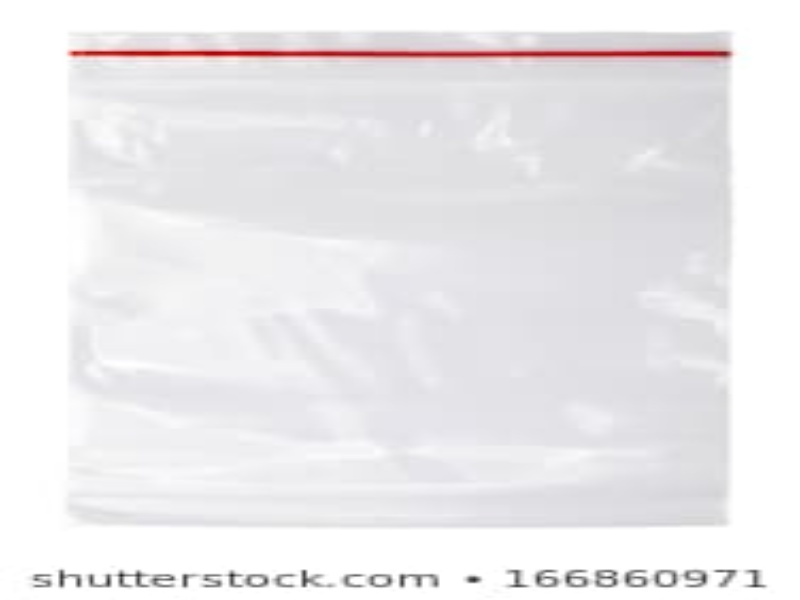plastic-bag: (61, 28, 739, 530)
